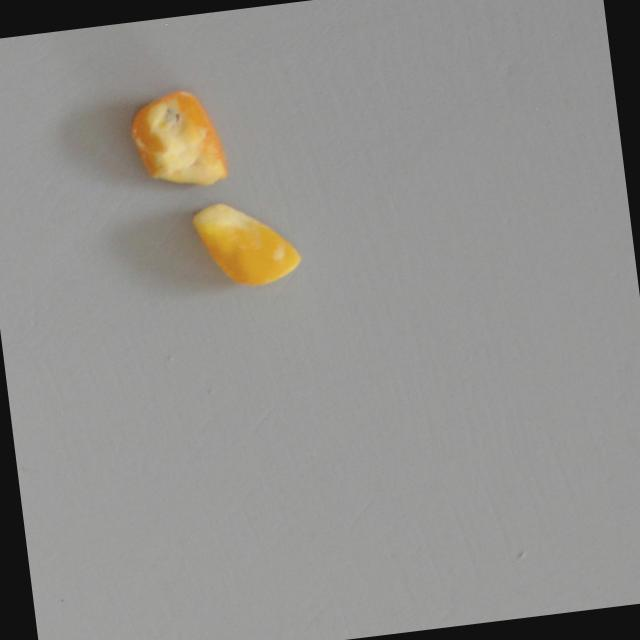estandar: (188, 192, 302, 292)
punto_negro: (118, 81, 229, 195)
